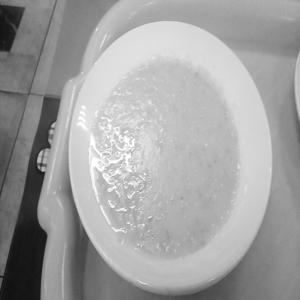porridge: (67, 49, 256, 267)
